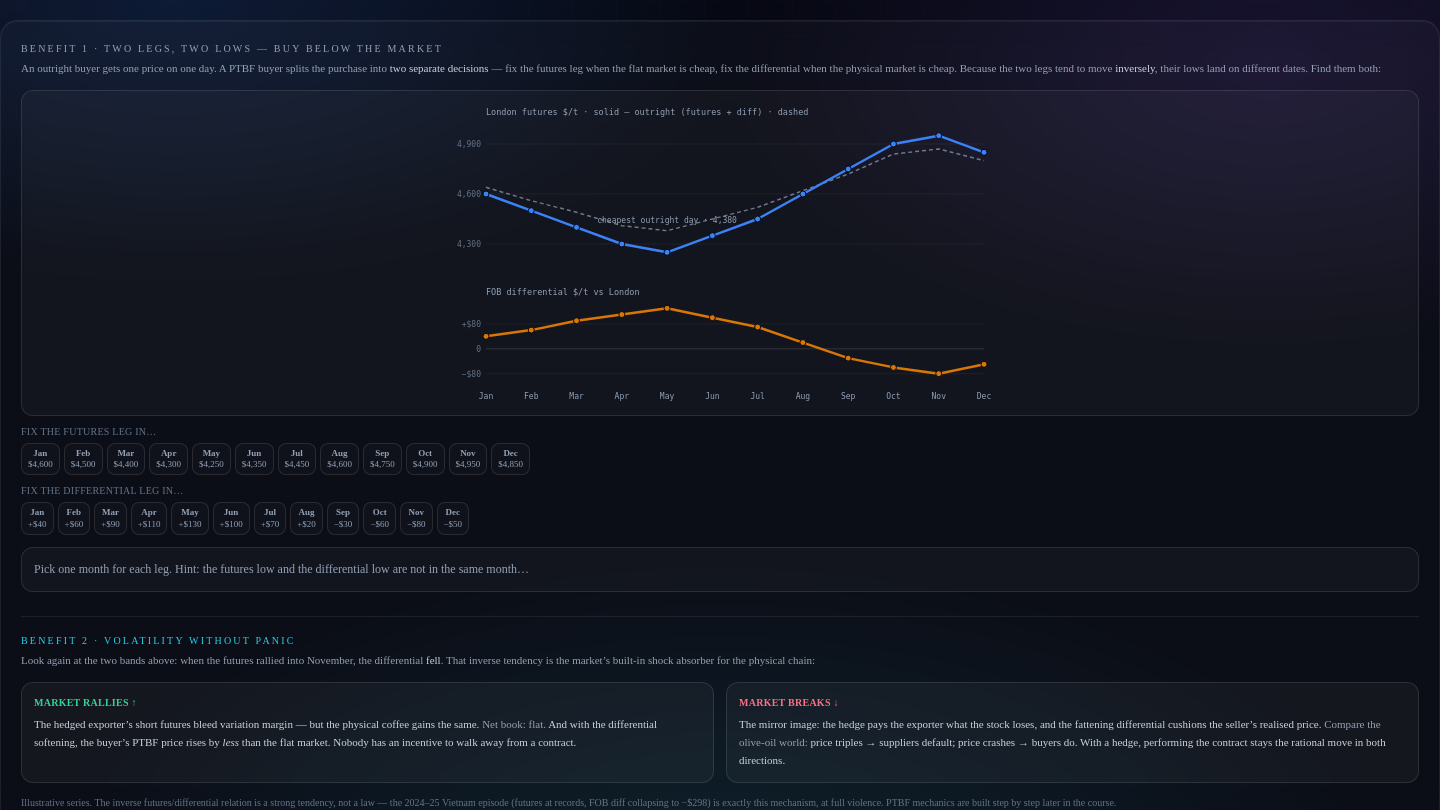
Test case: MarketBenefits: fixing the two lows beats the cheapest outright day by $210/t
// Futures low: May 4,250 · diff low: Nov −80 → 4,170, vs best outright 4,380 (May)
Click the button with aria-label "Fix the FUTURES leg in…: May" at (211, 459), box [192,443,231,475]
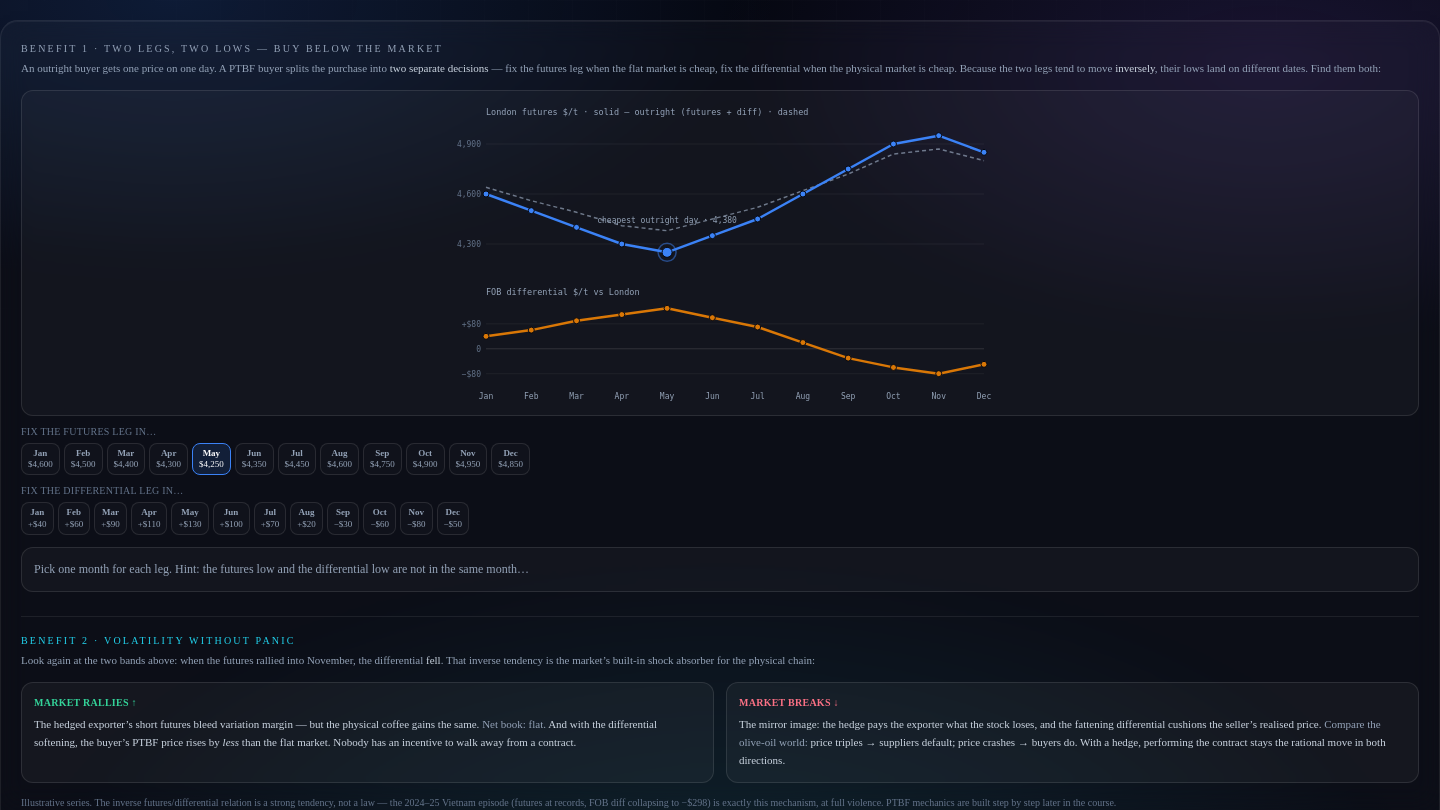
Click the button with aria-label "Fix the DIFFERENTIAL leg in…: Nov" at (416, 519), box [400,502,433,535]
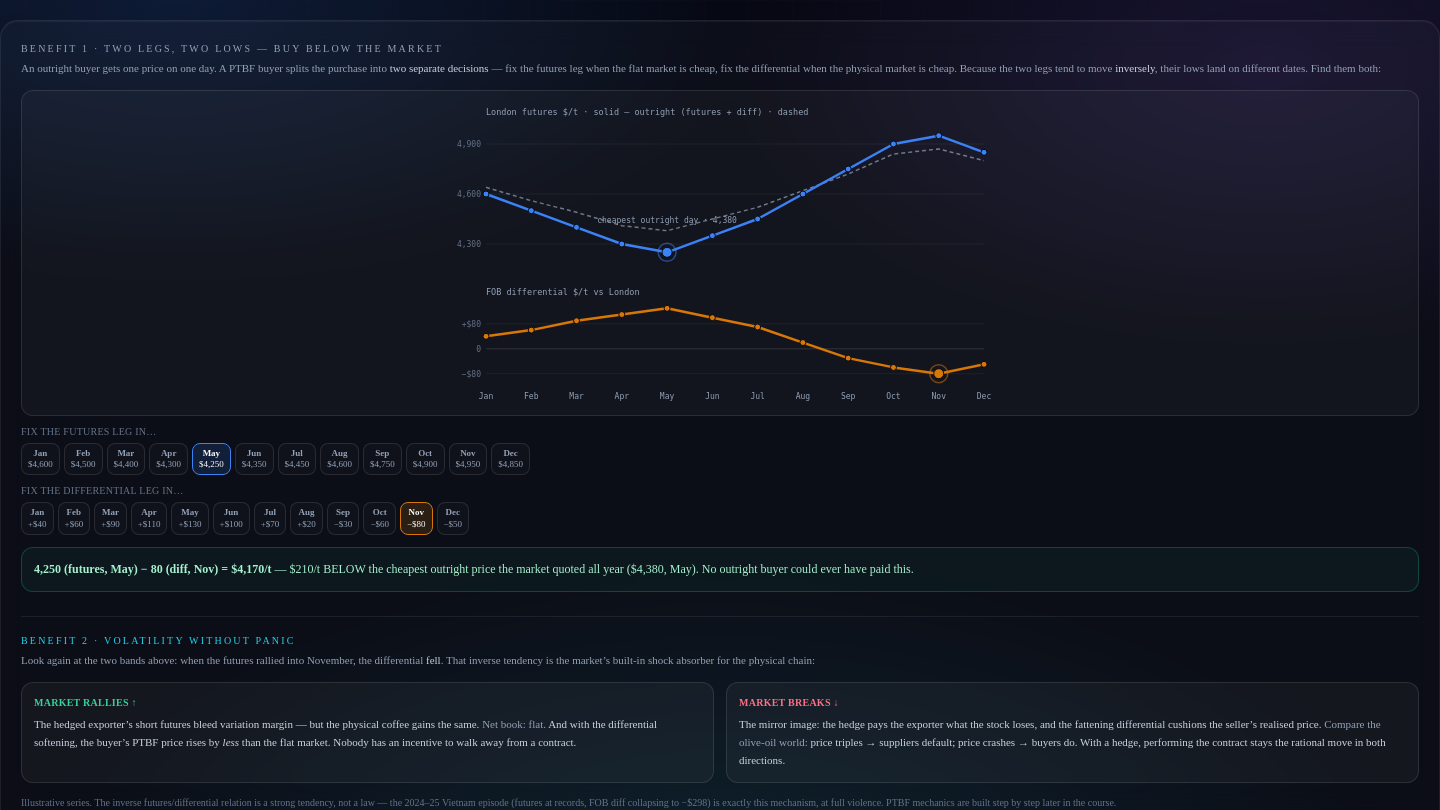
expect the text "= $4,170/t" is shown: met, box [34,562,272,576]
expect the text "$210/t BELOW" is shown: met, box [290,562,914,576]
Click the button with aria-label "Fix the DIFFERENTIAL leg in…: May" at (190, 519), box [172,502,209,535]
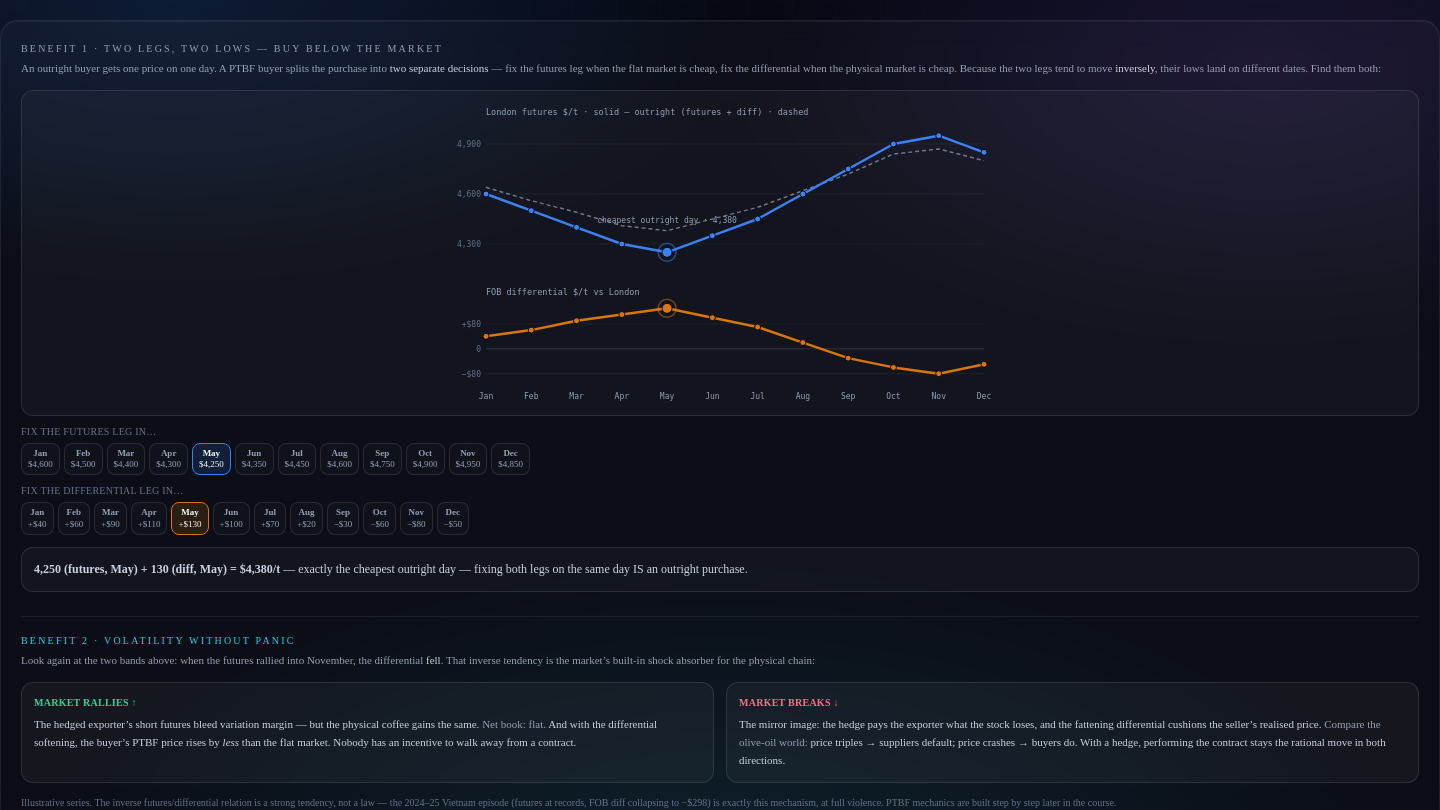
expect the text "outright purchase" is shown: met, box [298,562,748,576]
